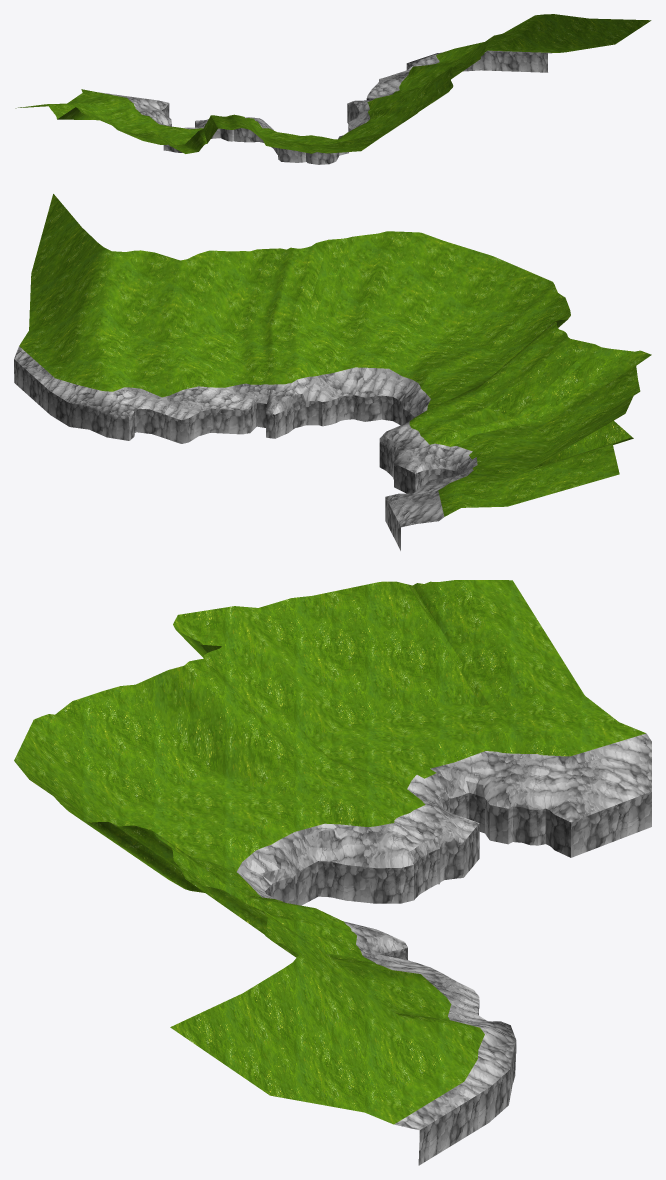
File: Parte-no-jugable-Nivel-2.FBX
The picture shows the model from 3 angles, top to bottom: view 1: azimuth 30°, elevation 25°; view 2: azimuth 150°, elevation 25°; view 3: azimuth 270°, elevation 25°; orthographic projection. The views are drawn at different scales.
Visible parts, largest first — view 1: muro_bosque; view 2: muro_bosque; view 3: muro_bosque.
Boxes of the visible parts, x1=… form: muro_bosque: x1=15, y1=14, x2=651, y2=164; muro_bosque: x1=14, y1=194, x2=651, y2=550; muro_bosque: x1=14, y1=580, x2=651, y2=1165.
Size of the model in its own units: 644 by 114 by 354.
